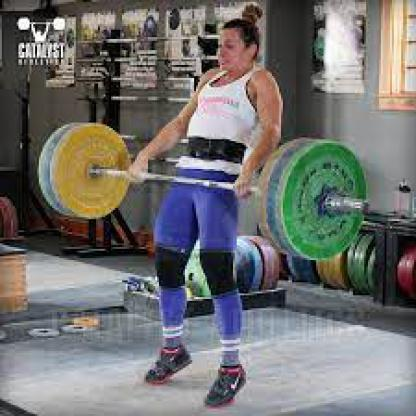Barbell: (357, 199, 375, 219)
